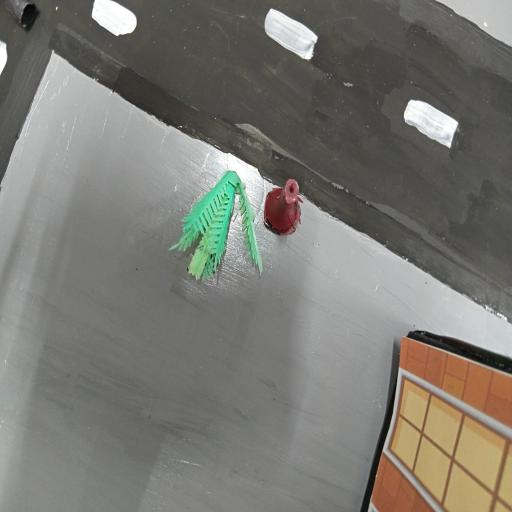fallen trees: (178, 133, 312, 291)
